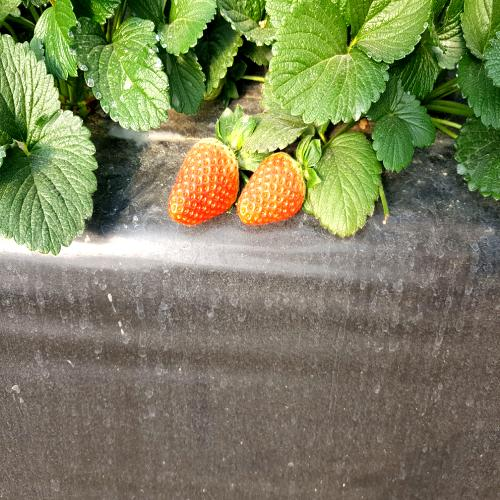partially-ripe: (166, 128, 242, 229), (236, 149, 310, 234)
